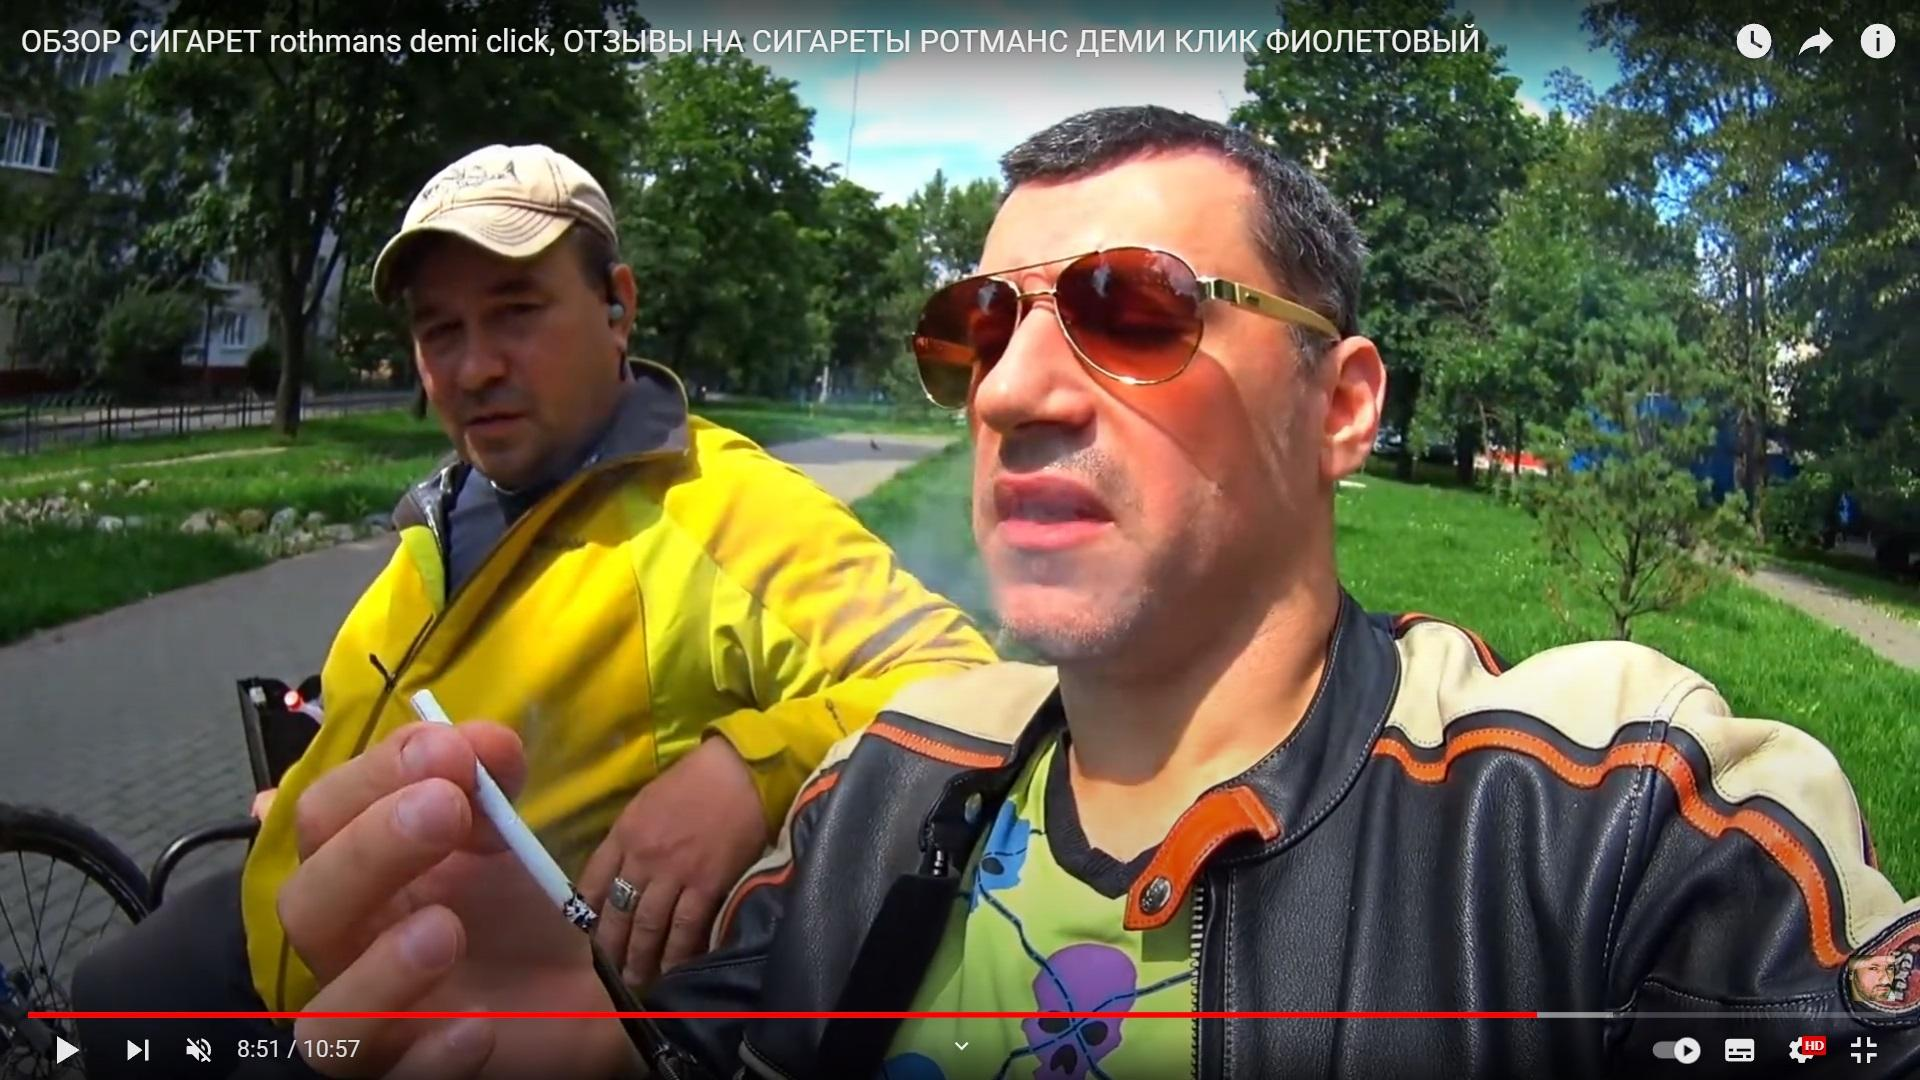cigarette: (409, 687, 599, 935)
